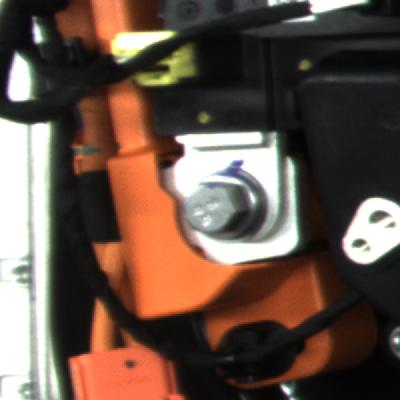nut_b: (179, 162, 275, 257)
